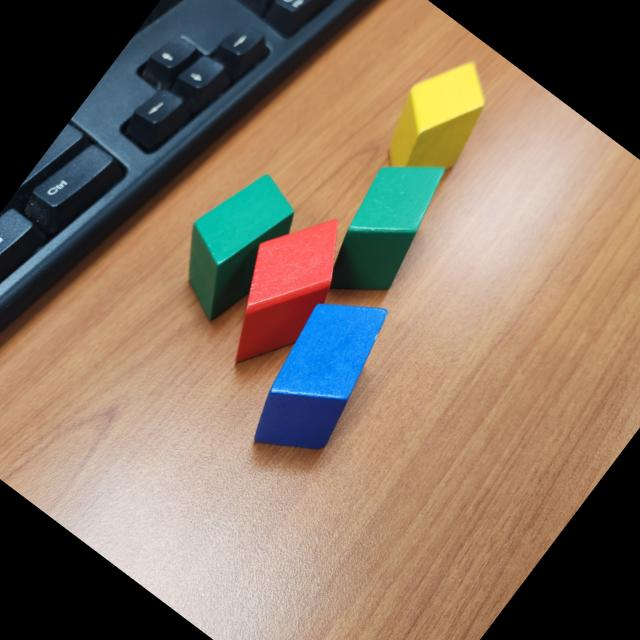blue: (228, 274, 414, 479)
green: (150, 156, 320, 336), (302, 137, 469, 320)
red: (193, 190, 377, 390)
yellow: (361, 41, 513, 202)
